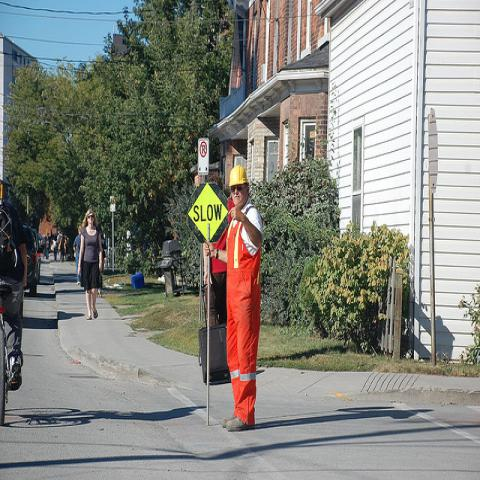car: (25, 226, 38, 297), (37, 232, 45, 254)
